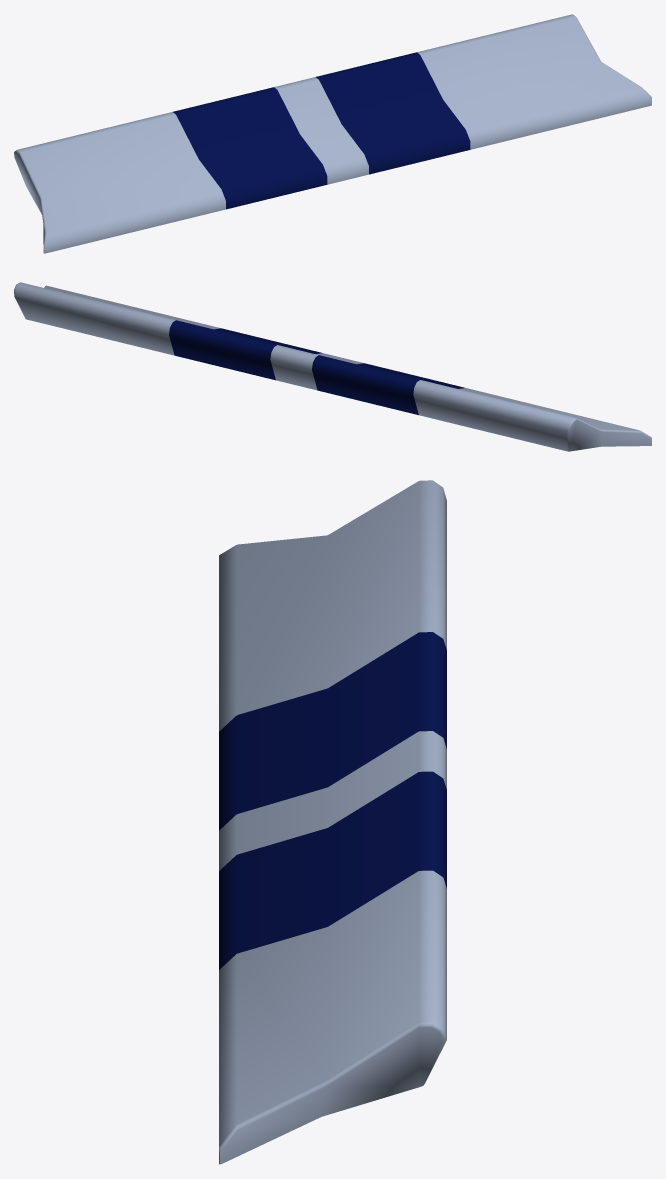
Rendered from spoiler1.fbx.
3 views of the same model, one above another, from view 1: azimuth 30°, elevation 25°; view 2: azimuth 150°, elevation 25°; view 3: azimuth 270°, elevation 25° (orthographic). The views are drawn at different scales.
Visible parts, largest first — view 1: spoiler1.001; view 2: spoiler1.001; view 3: spoiler1.001.
Part boxes in pixels (x1,y1,x2,y2): spoiler1.001: (14,14,651,253); spoiler1.001: (14,282,651,451); spoiler1.001: (219,480,446,1164).
Size of the model in its own units: 2.19 by 0.2011 by 0.3559.
